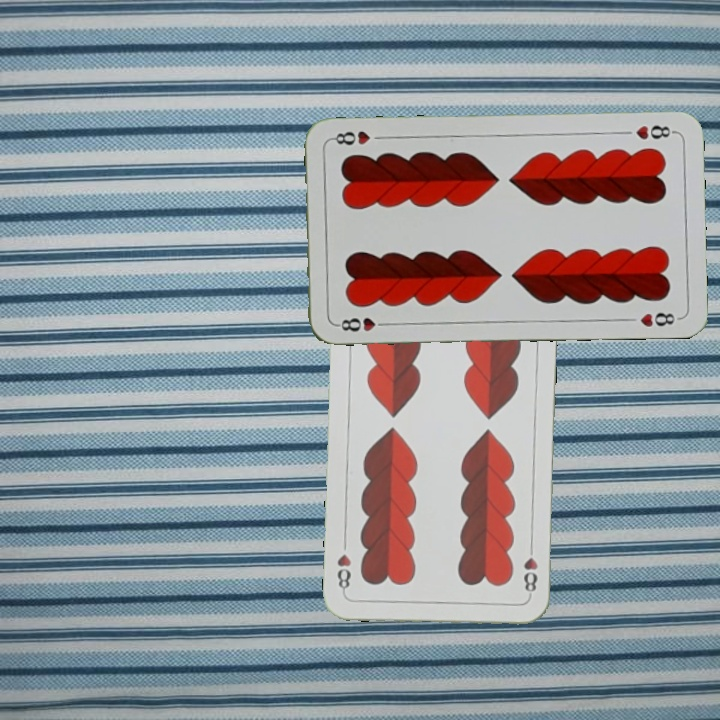H8: (519, 540, 541, 599), (333, 313, 392, 335), (631, 121, 678, 143)
